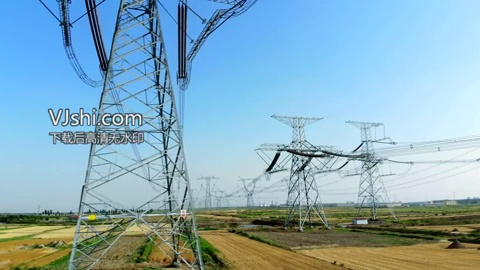tower_body: (259, 108, 333, 232), (339, 116, 399, 223)
tower_foot: (70, 183, 206, 270), (281, 198, 329, 229), (355, 193, 394, 220)
tower_head: (270, 112, 324, 130), (343, 119, 386, 130)
